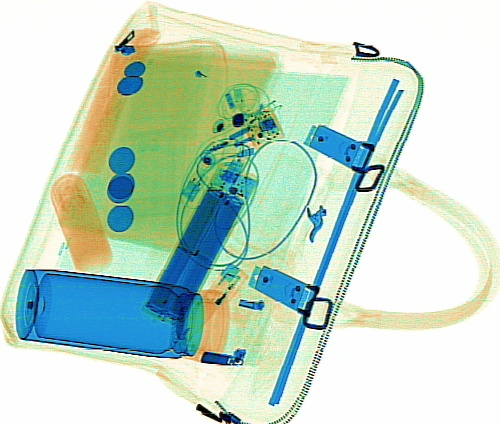lighter: (168, 261, 250, 345)
powerbank: (142, 161, 262, 323)
